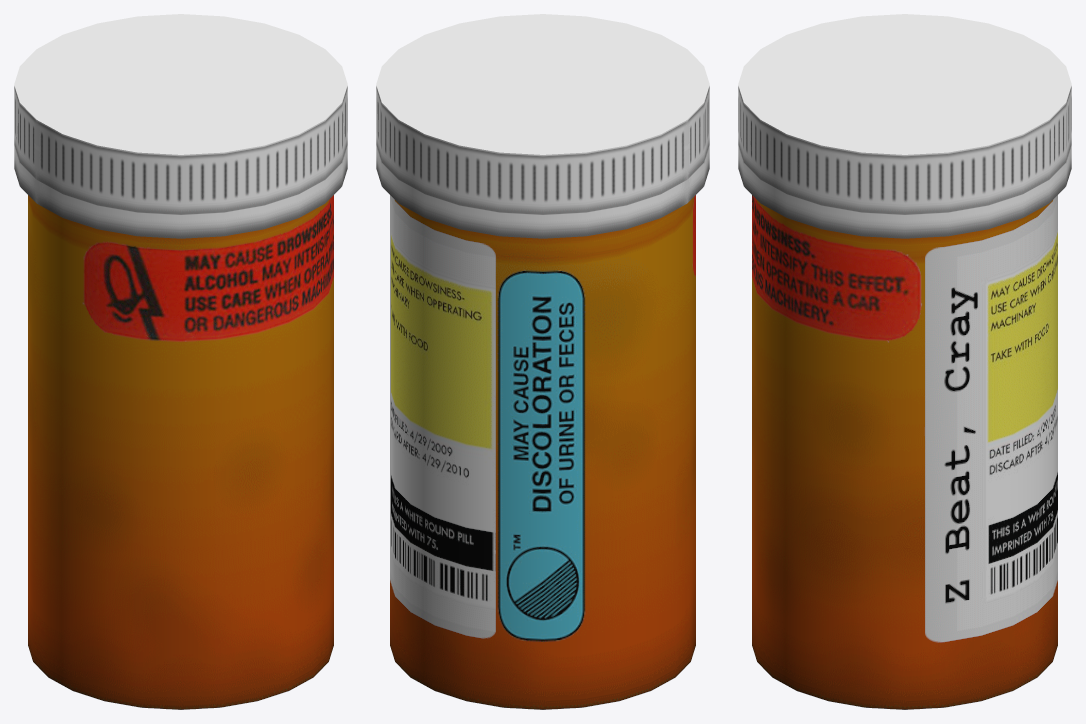
File: PillBottle.fbx
The picture shows the model from 3 angles, left to right: view 1: azimuth 30°, elevation 25°; view 2: azimuth 150°, elevation 25°; view 3: azimuth 270°, elevation 25°; orthographic projection.
Parts seen in each view (by area): view 1: PillBottle_1; view 2: PillBottle_1; view 3: PillBottle_1.
Boxes of the visible parts, left/top/right/bottom form: PillBottle_1: left=14, top=14, right=347, bottom=709; PillBottle_1: left=376, top=14, right=709, bottom=709; PillBottle_1: left=738, top=14, right=1071, bottom=709.
Bounding box in the file's own units: 3.31 × 6.14 × 3.31.
1 material, 1 textured.
